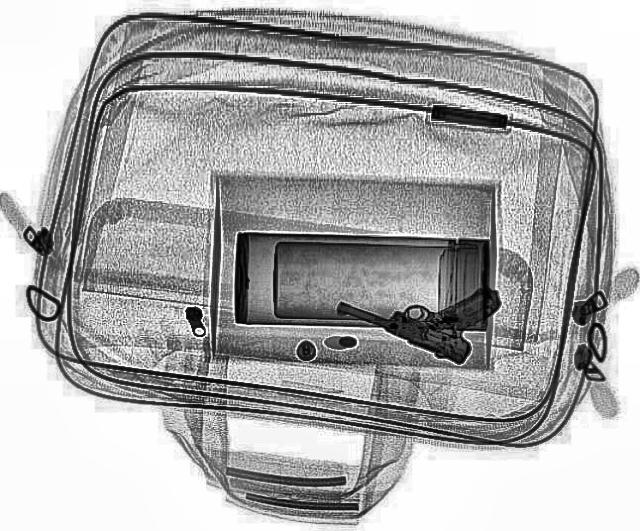Gun: (328, 242, 510, 366)
